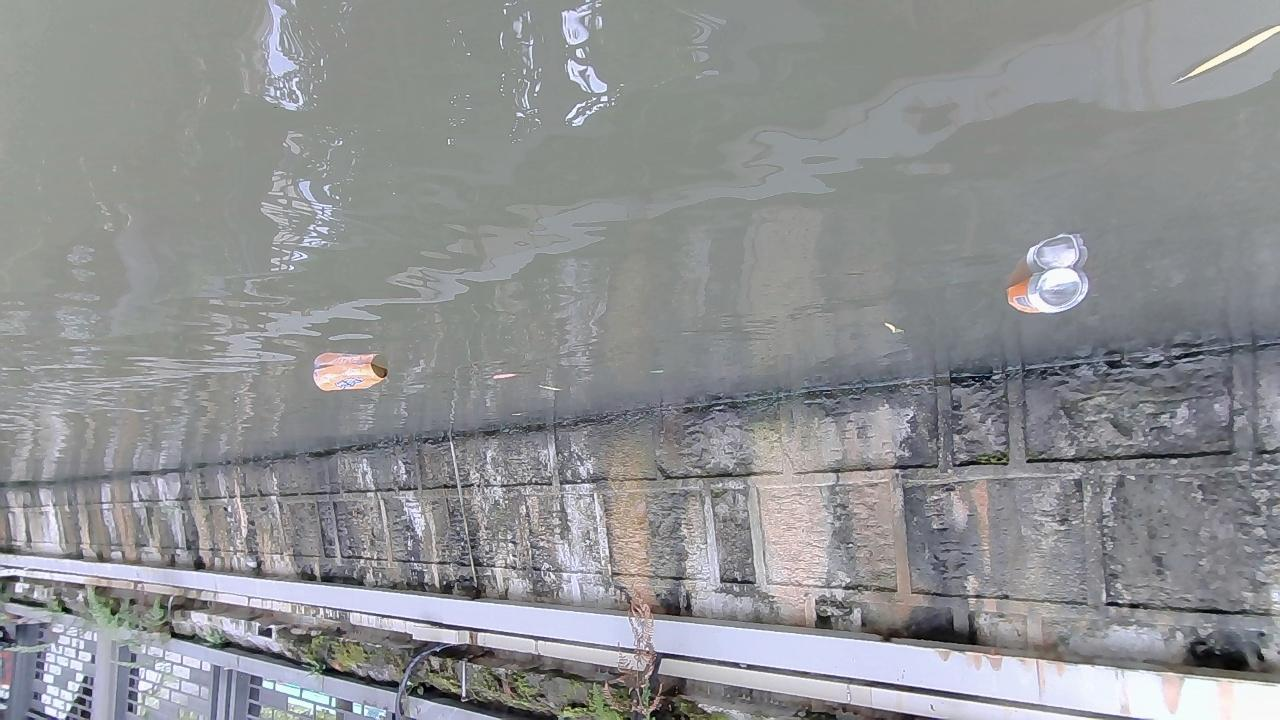Metal: (1003, 265, 1091, 317)
Plastic: (310, 362, 389, 393)
